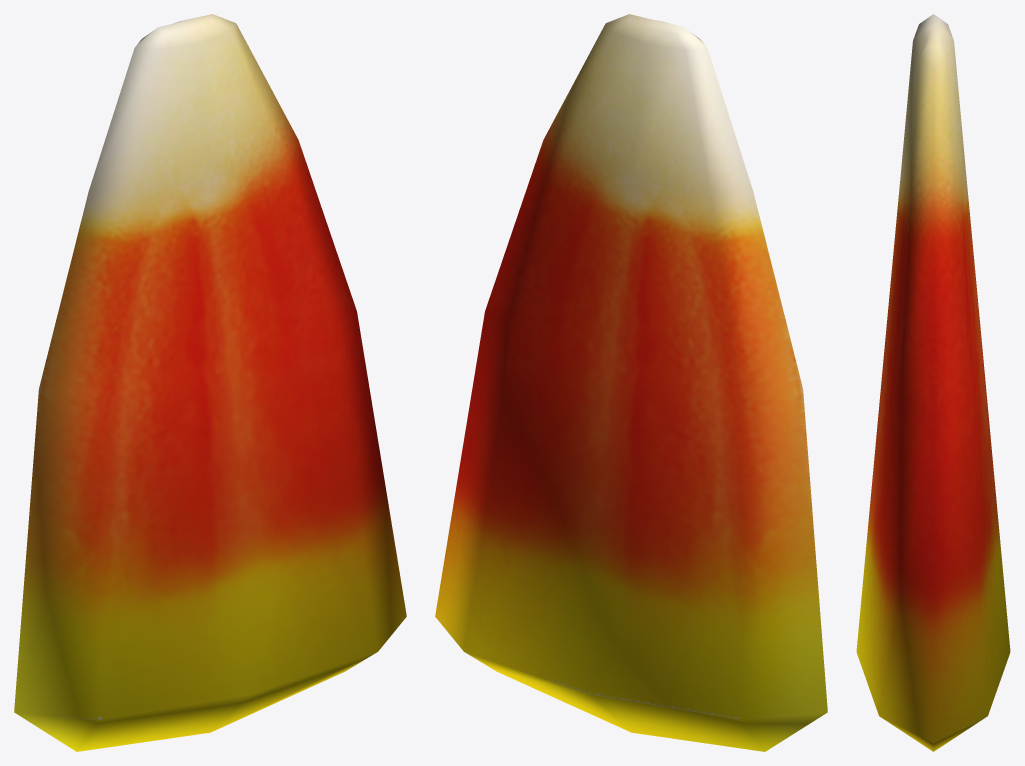
Rendered from candy_05.fbx.
3 views of the same model, side by side, from view 1: azimuth 30°, elevation 25°; view 2: azimuth 150°, elevation 25°; view 3: azimuth 270°, elevation 25° (orthographic). The views are drawn at different scales.
Visible parts, largest first — view 1: candy_05; view 2: candy_05; view 3: candy_05.
Part boxes in pixels (box(x1,y1,x2,y2)): candy_05: box(14, 14, 406, 751); candy_05: box(435, 14, 827, 751); candy_05: box(856, 14, 1010, 751).
Size of the model in its own units: 0.5476 by 0.9567 by 0.1969.
